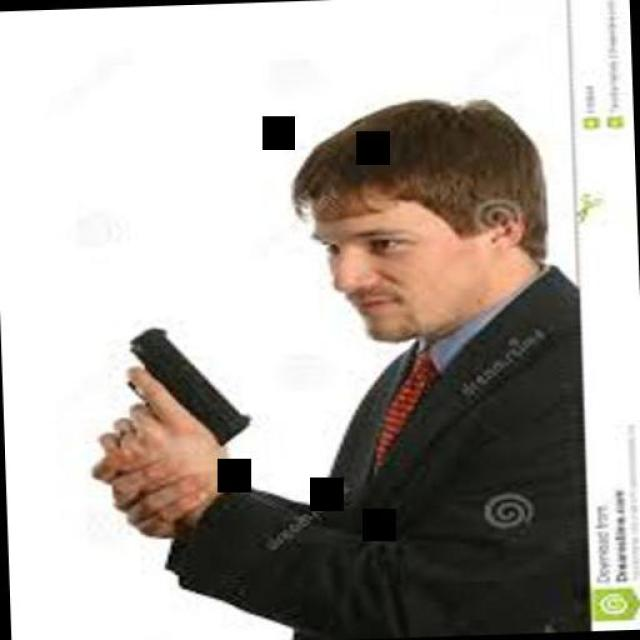gun: (98, 316, 252, 462)
